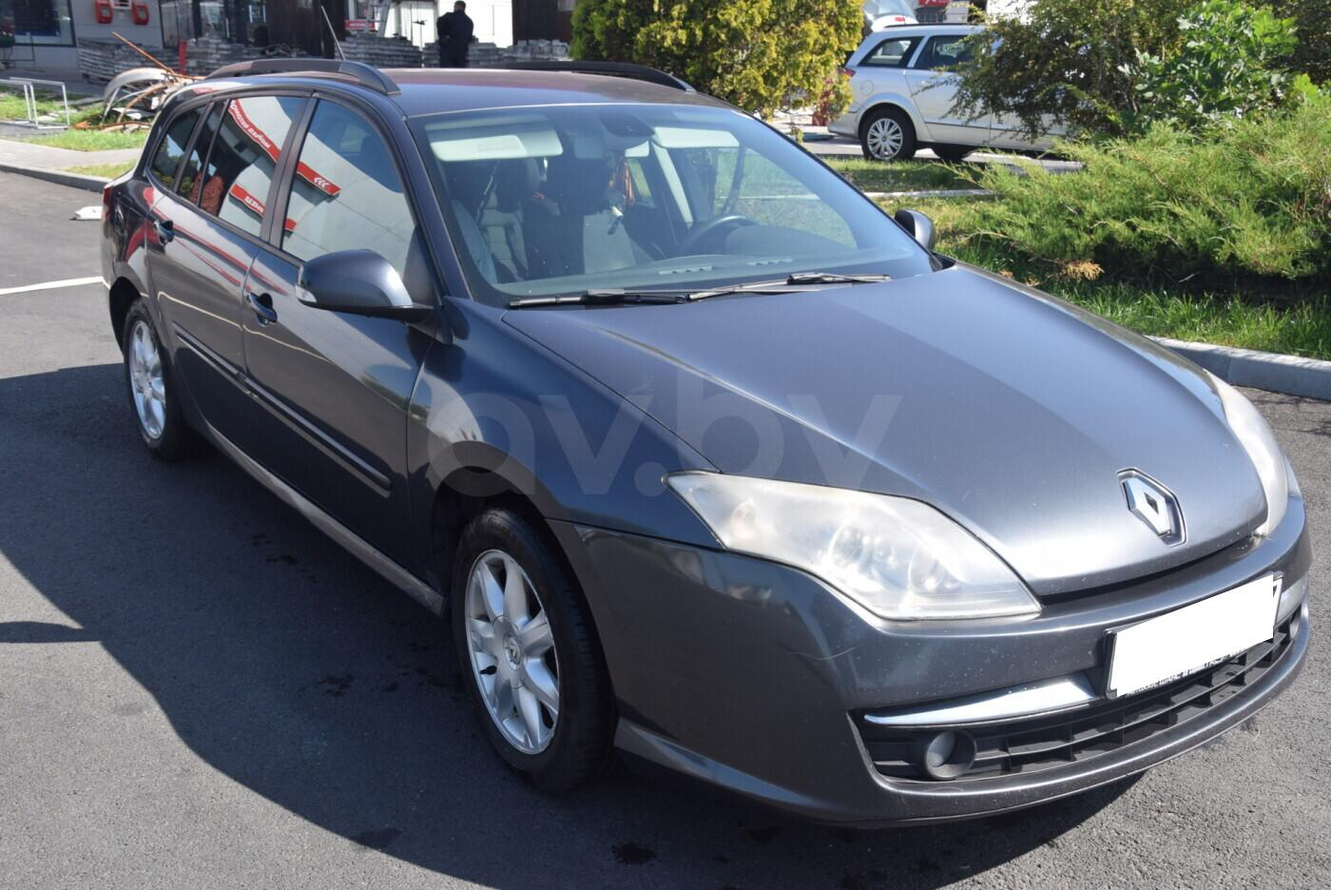Laguna_2007-2011: (96, 60, 1310, 822)
